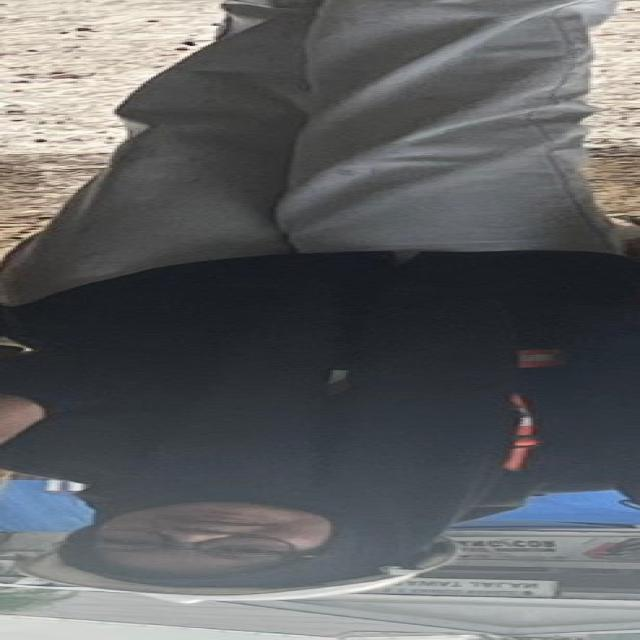safetyhelmet: (37, 506, 483, 611)
